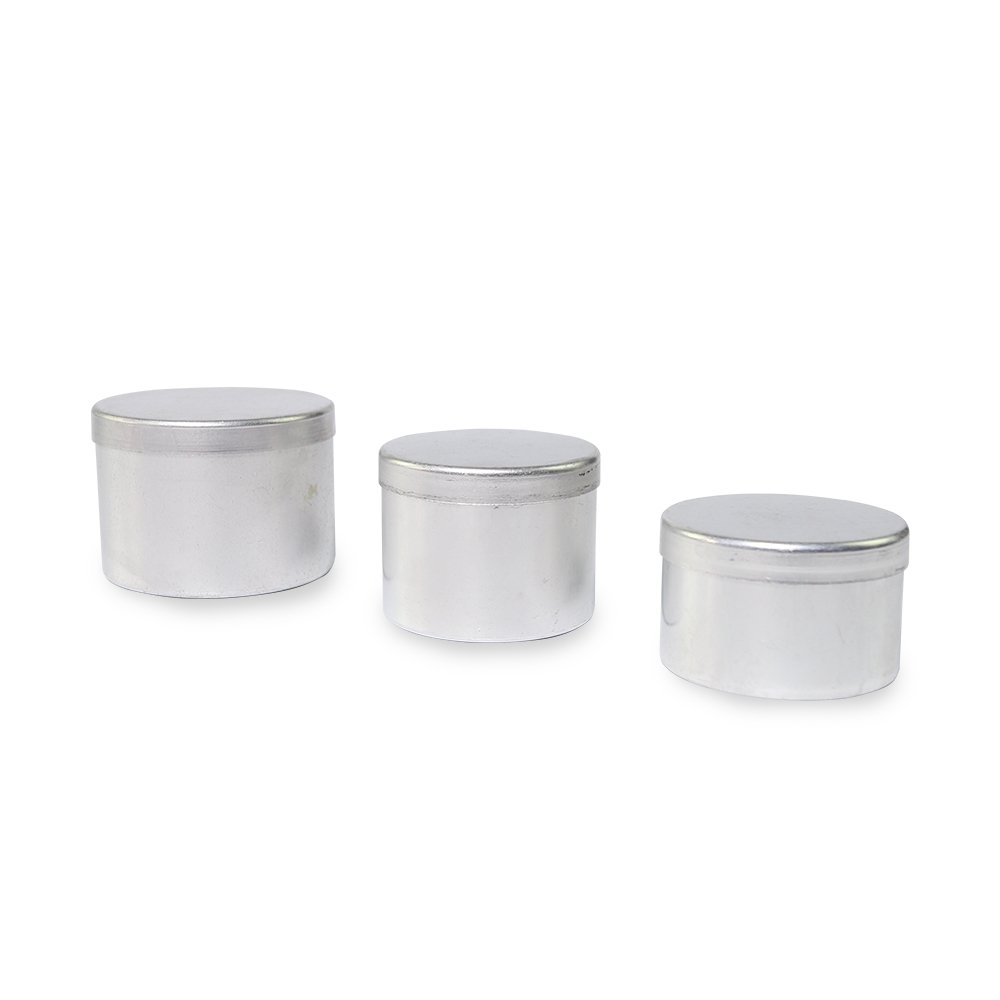can: (79, 379, 355, 617), (654, 486, 924, 710), (374, 423, 615, 655)
